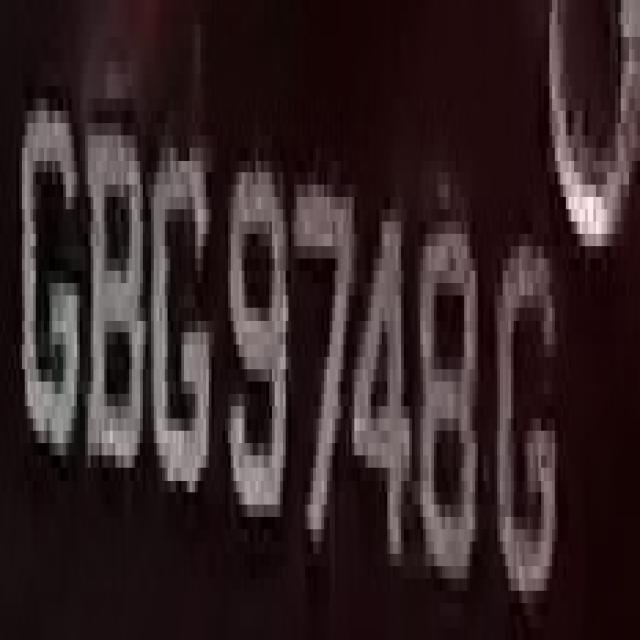4: (349, 184, 415, 578)
7: (291, 111, 354, 566)
8: (418, 148, 480, 590)
9: (225, 123, 291, 554)
B: (77, 111, 148, 480)
G: (492, 209, 568, 628), (146, 99, 212, 492), (19, 111, 77, 443)
